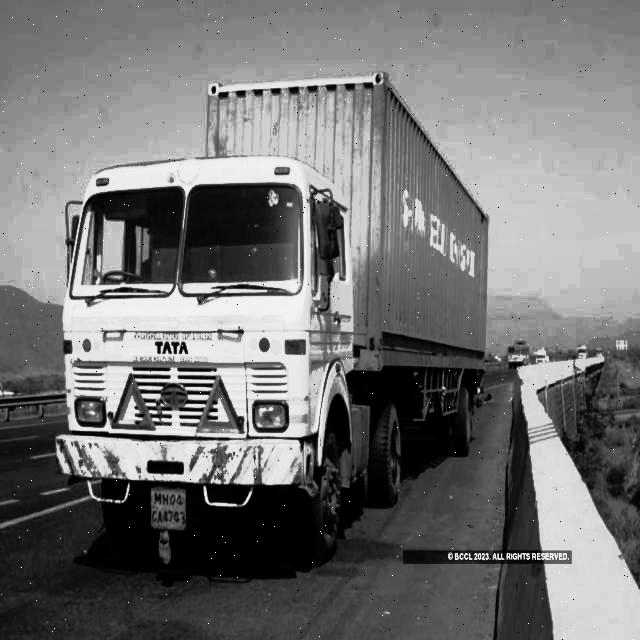HCV: (49, 52, 435, 586)
